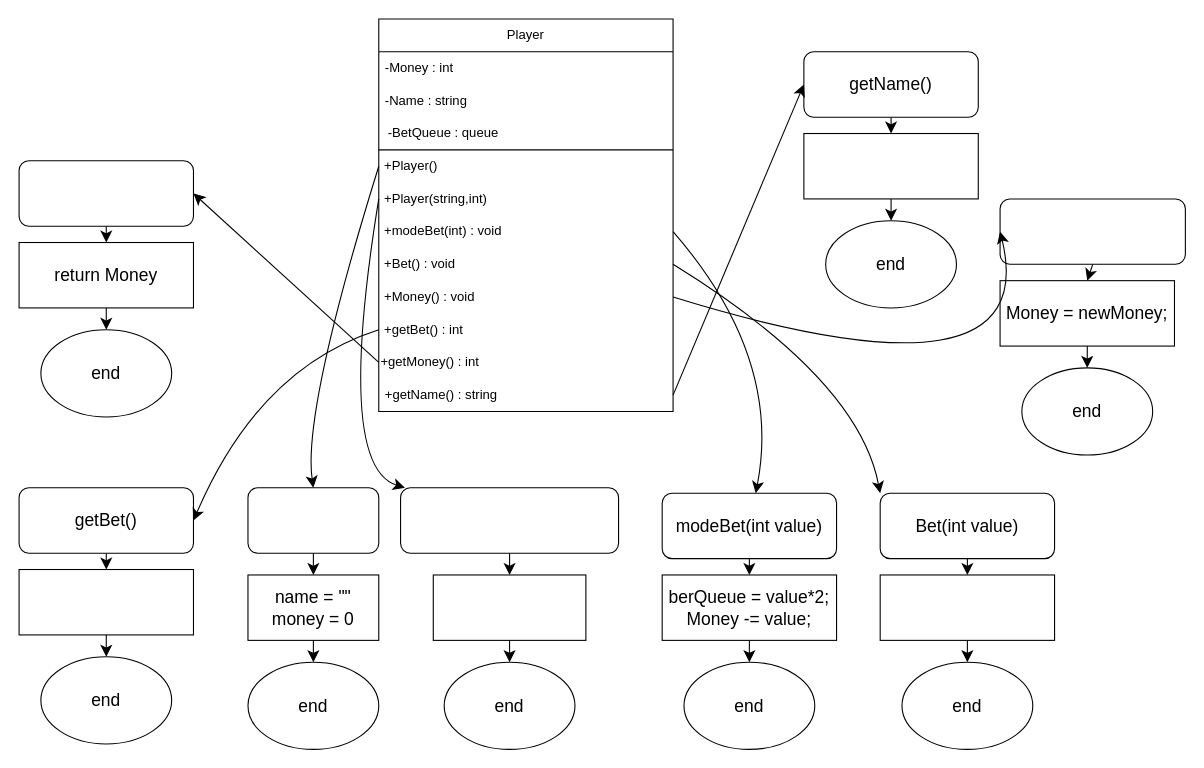
Image size: 1204x768. Some labels were removed from this diagram. Each missing label, with the centre of its shape:
"berQueue = value; Money -= value;" belongs at [967,607].
"getMoney()" belongs at [105,193].
"Money(int newmoney)" belongs at [1092,231].
"name = name; money = money;" belongs at [509,607].
"Player()" belongs at [313,520].
"Player(string name,int money)" belongs at [509,520].
"return BetQueue" belongs at [105,601].
"return Name" belongs at [890,165].
